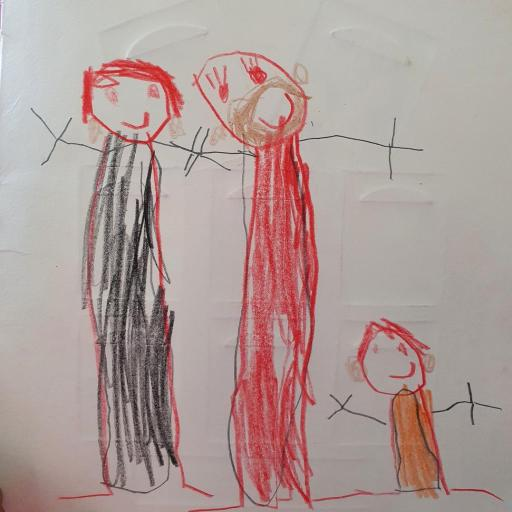person: (189, 43, 426, 512), (34, 51, 198, 503), (327, 311, 512, 512)
